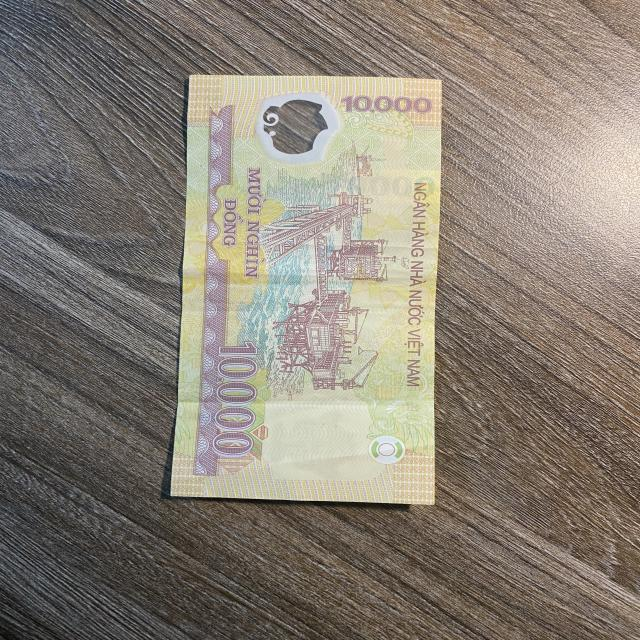10 000 VND: (168, 71, 443, 511)
